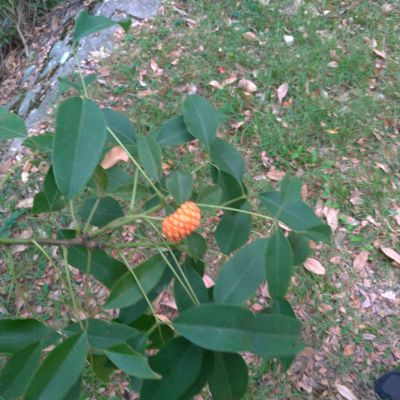eggs: (157, 200, 203, 241)
